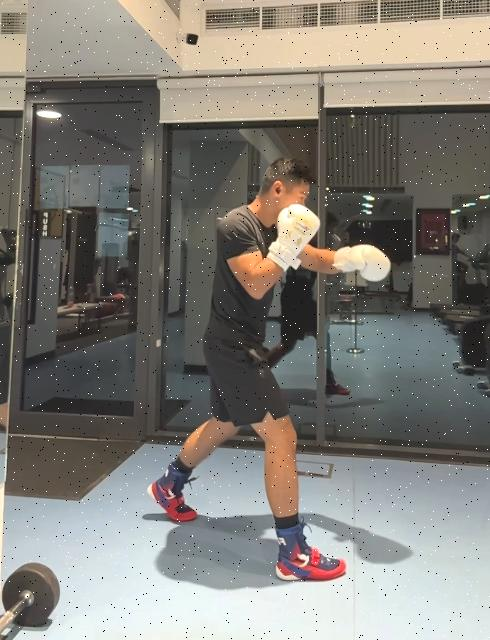punch: (144, 154, 394, 586)
